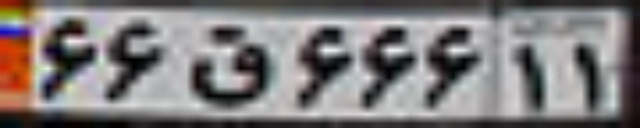1: (573, 43, 603, 108), (515, 44, 545, 106)
6: (422, 21, 487, 106), (104, 18, 169, 99), (288, 25, 351, 107), (360, 24, 416, 106), (39, 18, 96, 98)
ghaf: (186, 25, 270, 106)
